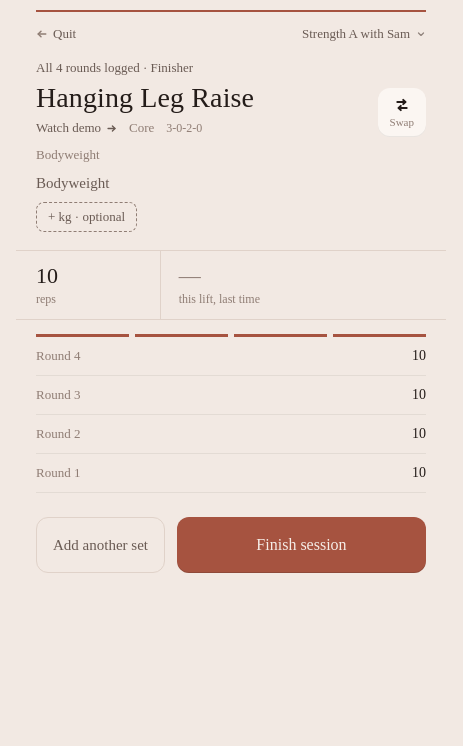
Test: Review › a send that doesn't go keeps the draft: 0
Click the button "Finish session" at (302, 545), box x1=177 y1=517 x2=426 y2=573
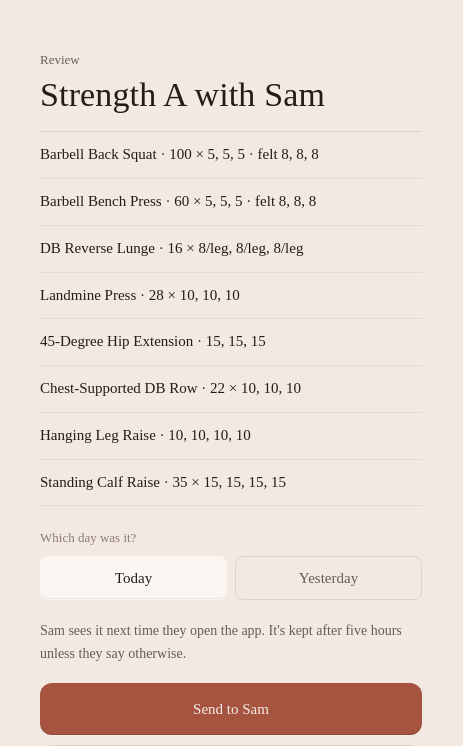
Expected: the heading reads "Strength A with Sam", x1=40 y1=76 x2=325 y2=113
Click the button "Send to Sam" at (231, 709), box x1=40 y1=683 x2=422 y2=735
(page scrolled)
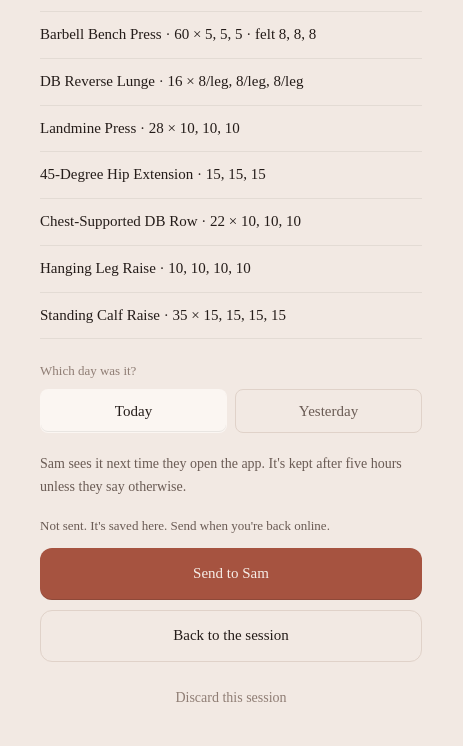
Expected: the button "Discard this session" is shown, x1=40 y1=676 x2=422 y2=720
Expected: the text "Not sent. It's saved here. Send when you're back online." is shown, x1=40 y1=518 x2=330 y2=533
